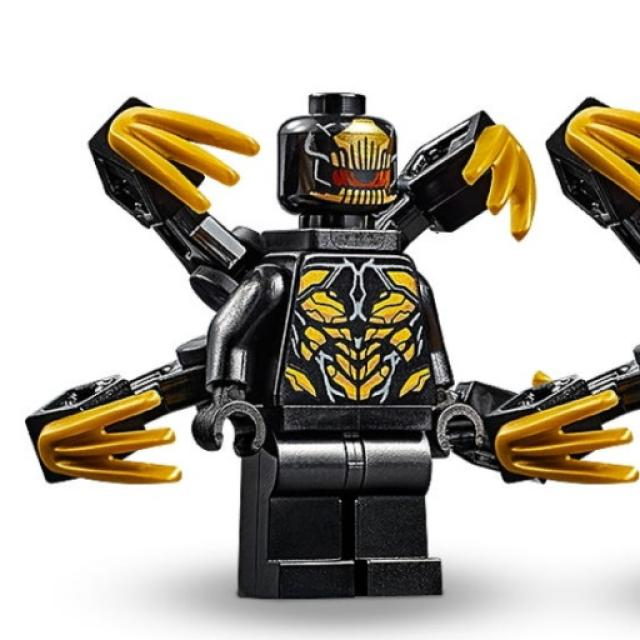Lego-Minifigures: (28, 61, 615, 621)
